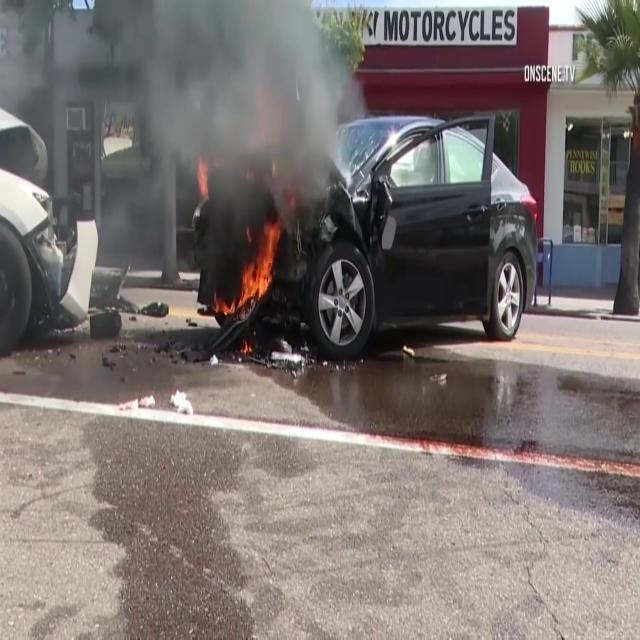Fire: (232, 221, 279, 324)
Smoke: (0, 0, 343, 244)
